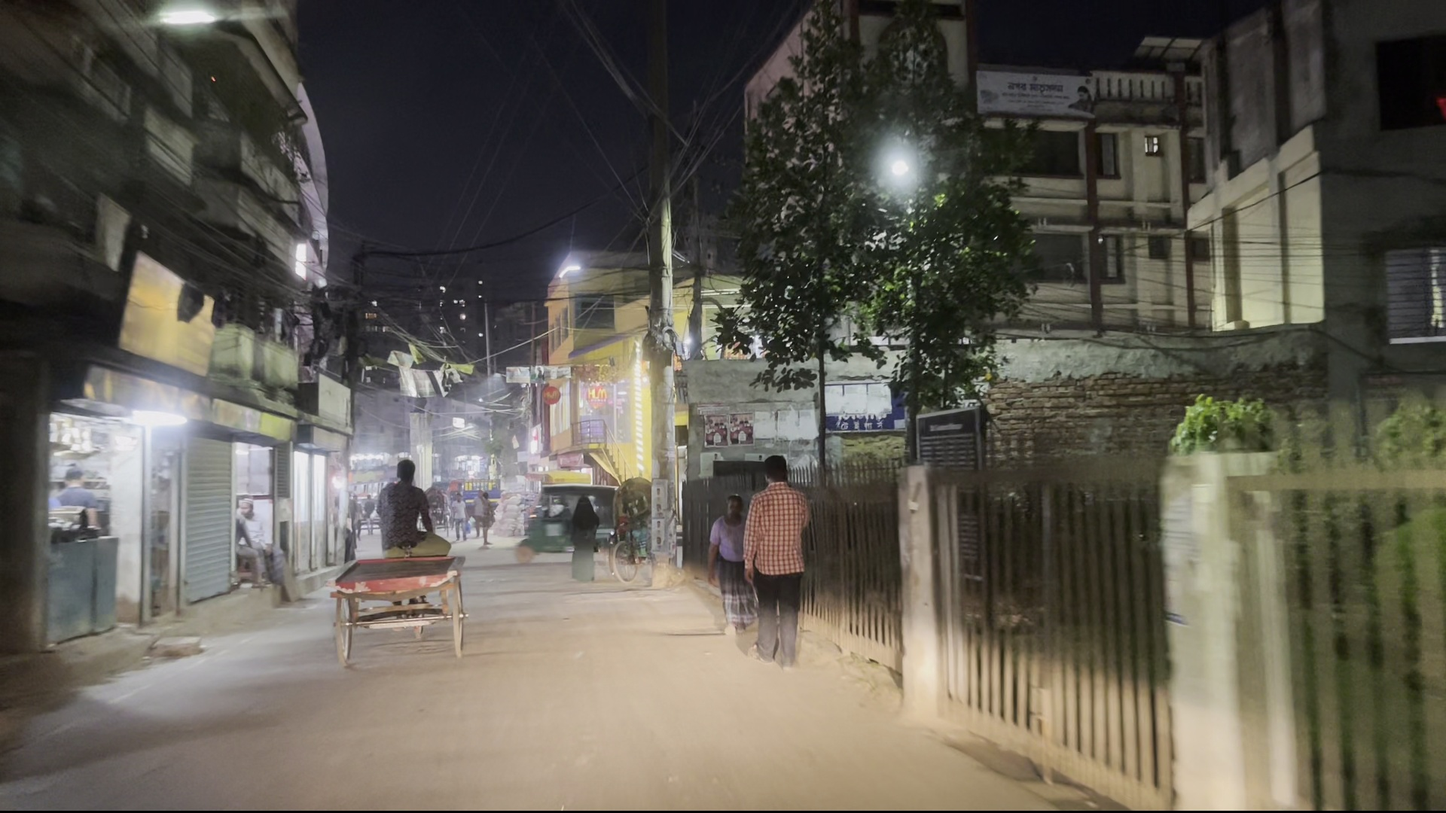person: (742, 453, 814, 671), (706, 489, 754, 641), (563, 493, 602, 586)
